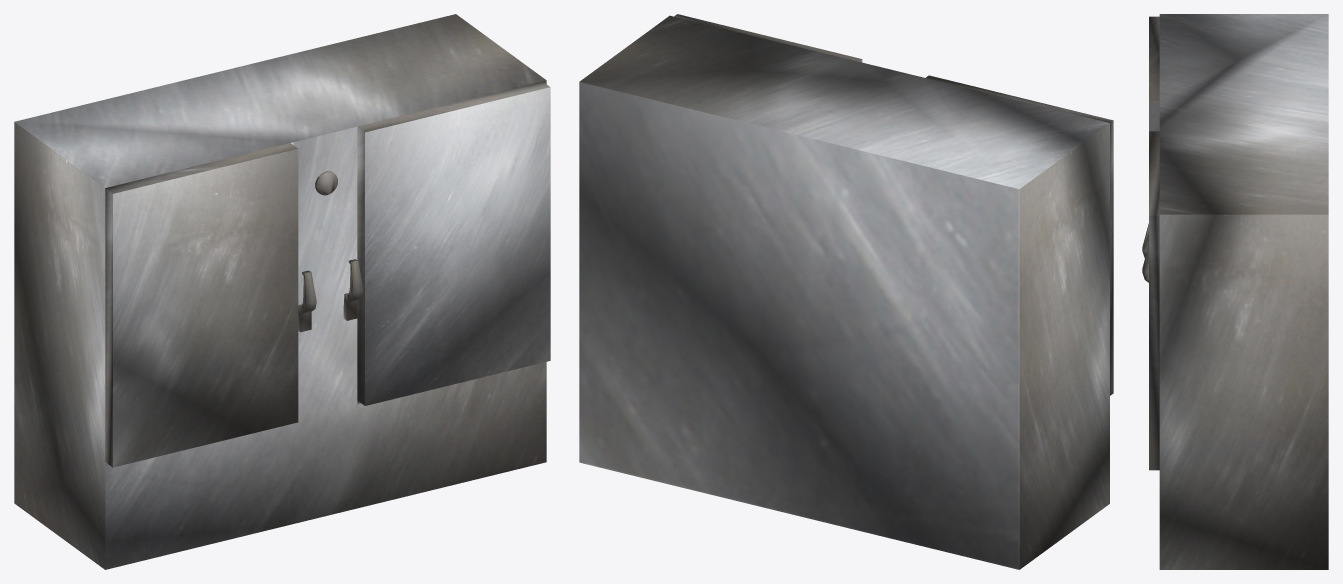
Rendered from fridge.obj.
3 views of the same model, side by side, from view 1: azimuth 30°, elevation 25°; view 2: azimuth 150°, elevation 25°; view 3: azimuth 270°, elevation 25° (orthographic). The views are drawn at different scales.
Parts seen in each view (by area): view 1: fridge.obj; view 2: fridge.obj; view 3: fridge.obj.
Part boxes in pixels (x1,y1,x2,y2): fridge.obj: (14,14,550,569); fridge.obj: (579,14,1113,569); fridge.obj: (1142,14,1328,569).
Bounding box in the file's own units: 7.09 × 5.86 × 2.78.
